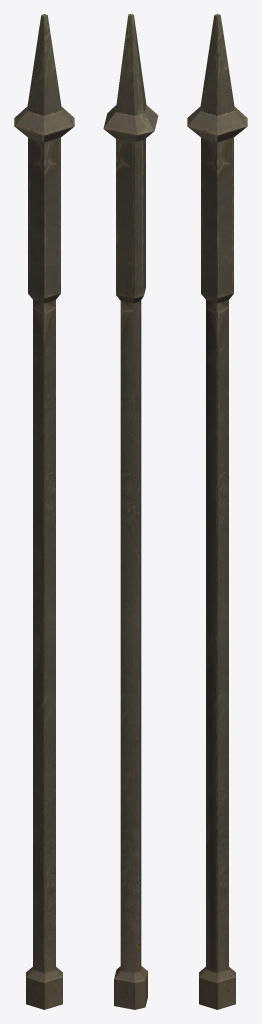
File: bg_rad_kamen_wall03_sm_jjh.obj
3 views of the same model, side by side, from view 1: azimuth 90°, elevation 25°; view 2: azimuth 210°, elevation 25°; view 3: azimuth 270°, elevation 25° (orthographic).
Parts seen in each view (by area): view 1: bg_rad_kamen_wall03_sm_jjh_0; view 2: bg_rad_kamen_wall03_sm_jjh_0; view 3: bg_rad_kamen_wall03_sm_jjh_0.
Boxes of the visible parts, x1=… form: bg_rad_kamen_wall03_sm_jjh_0: x1=14, y1=14, x2=74, y2=1009; bg_rad_kamen_wall03_sm_jjh_0: x1=103, y1=14, x2=158, y2=1009; bg_rad_kamen_wall03_sm_jjh_0: x1=187, y1=14, x2=247, y2=1009.
Bounding box in the file's own units: 0.1555 × 2.66 × 0.1479.
Materials: 1 (1 with a texture image).
